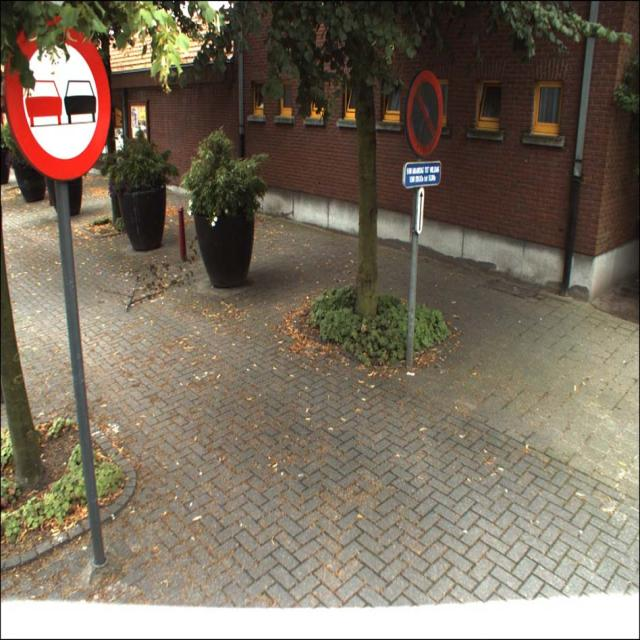parkyasak: (406, 71, 444, 158)
